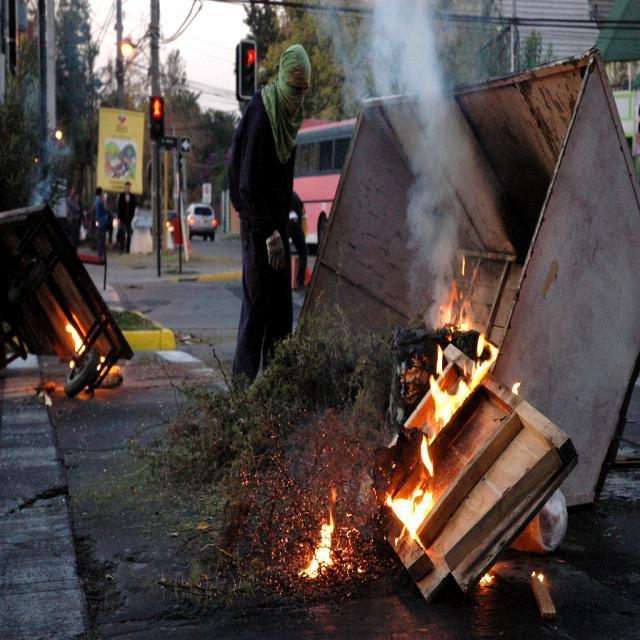Fire: (424, 302, 496, 440), (388, 442, 436, 548), (300, 518, 338, 588), (63, 314, 93, 366)
Smoke: (353, 0, 502, 281)
